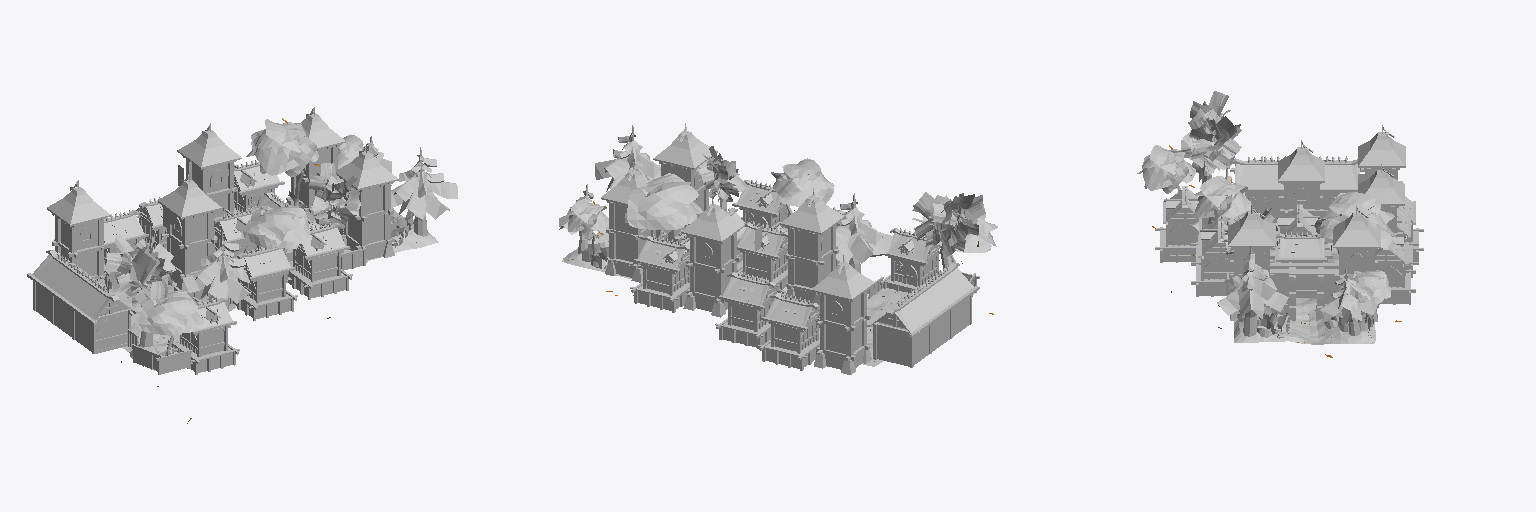
3 renders of one model, left to right at view 1: azimuth 30°, elevation 25°; view 2: azimuth 150°, elevation 25°; view 3: azimuth 270°, elevation 25°, orthographic.
Parts seen in each view (by area): view 1: Plane.025, Cube.006_Cube.008, folha_03_a.021_Plane.015, Plane.034, Cube.046_Cube.041, Cube.050_Cube.046, Cube.105_Cube.085, Plane, Cube.079_Cube.111, Plane.011, Plane.027_Plane.026, Plane.010 (+7 smaller); view 2: Plane.025, Cube.006_Cube.008, folha_03_a.021_Plane.015, Plane.034, Cube.046_Cube.041, Cube.050_Cube.046, Cube.105_Cube.085, Plane.027_Plane.026, Plane, Cube.079_Cube.111, Plane.007, Plane.044_Plane.047 (+9 smaller); view 3: Plane.025, Cube.006_Cube.008, Plane.034, folha_03_a.021_Plane.015, Plane, Cube.050_Cube.046, Cube.046_Cube.041, Cube.105_Cube.085, Plane.015_Plane.040, Plane.005_Plane.001, Plane.026_Plane.024, Cube.078_Cube.110 (+2 smaller).
Part boxes in pixels (x1,y1,x2,y2): Plane.025: (138,119,365,335); Cube.006_Cube.008: (47,113,398,225); folha_03_a.021_Plane.015: (106,163,360,306); Plane.034: (183,141,457,303); Cube.046_Cube.041: (104,162,340,331); Cube.050_Cube.046: (104,168,350,334); Cube.105_Cube.085: (34,256,131,319); Plane: (106,210,438,370); Cube.079_Cube.111: (195,278,345,374); Plane.011: (61,148,382,247); Plane.027_Plane.026: (201,255,336,355); Plane.010: (61,214,383,272); Plane.025: (567,158,997,252); Cube.006_Cube.008: (601,131,874,300); folha_03_a.021_Plane.015: (697,146,985,256); Plane.034: (559,134,892,263); Cube.046_Cube.041: (643,184,926,327); Cube.050_Cube.046: (633,180,940,330); Cube.105_Cube.085: (874,269,972,332); Plane.027_Plane.026: (647,243,796,351); Plane: (562,232,974,366); Cube.079_Cube.111: (634,269,799,368); Plane.007: (641,190,845,353); Plane.044_Plane.047: (877,327,908,366); Plane.025: (1137,145,1396,302); Cube.006_Cube.008: (1228,132,1405,247); Plane.034: (1193,176,1378,323); folha_03_a.021_Plane.015: (1171,91,1277,254); Plane: (1170,223,1375,344); Cube.050_Cube.046: (1163,186,1415,265); Cube.046_Cube.041: (1163,192,1415,261); Cube.105_Cube.085: (1244,161,1350,191); Plane.015_Plane.040: (1237,310,1373,337); Plane.005_Plane.001: (1239,184,1369,273); Plane.026_Plane.024: (1168,221,1233,278); Cube.078_Cube.110: (1160,250,1224,296).
Bounding box in the file's own units: 44 × 22.19 × 29.38.
6 materials, 1 textured.